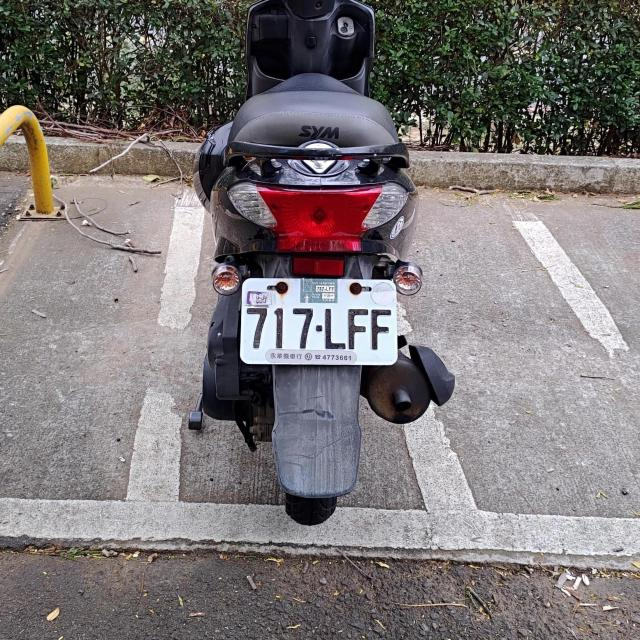W: (241, 276, 396, 364)
